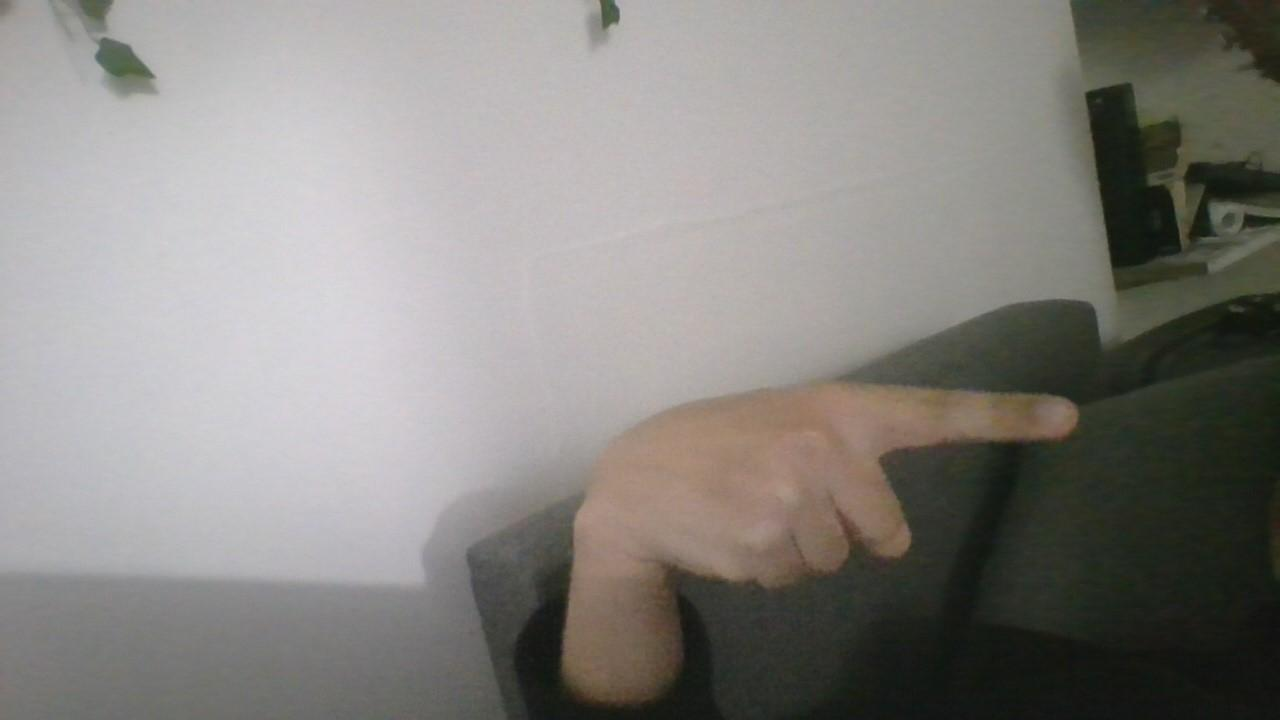right: (539, 360, 1086, 616)
